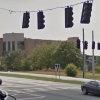Traffic light: (14, 5, 94, 33)
